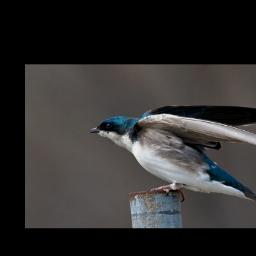Swallow: (87, 102, 256, 215)
